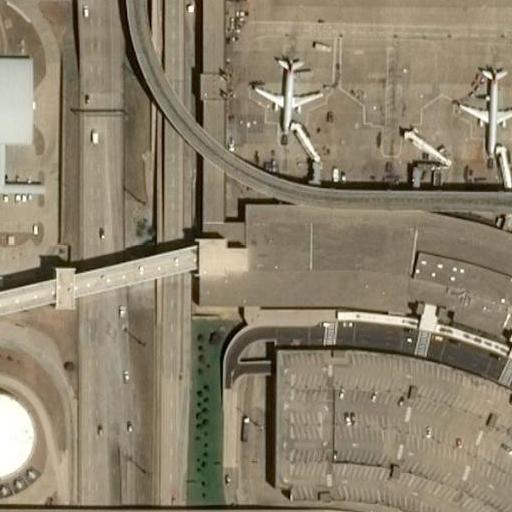Aircraft: (248, 48, 322, 134), (455, 64, 512, 155)
